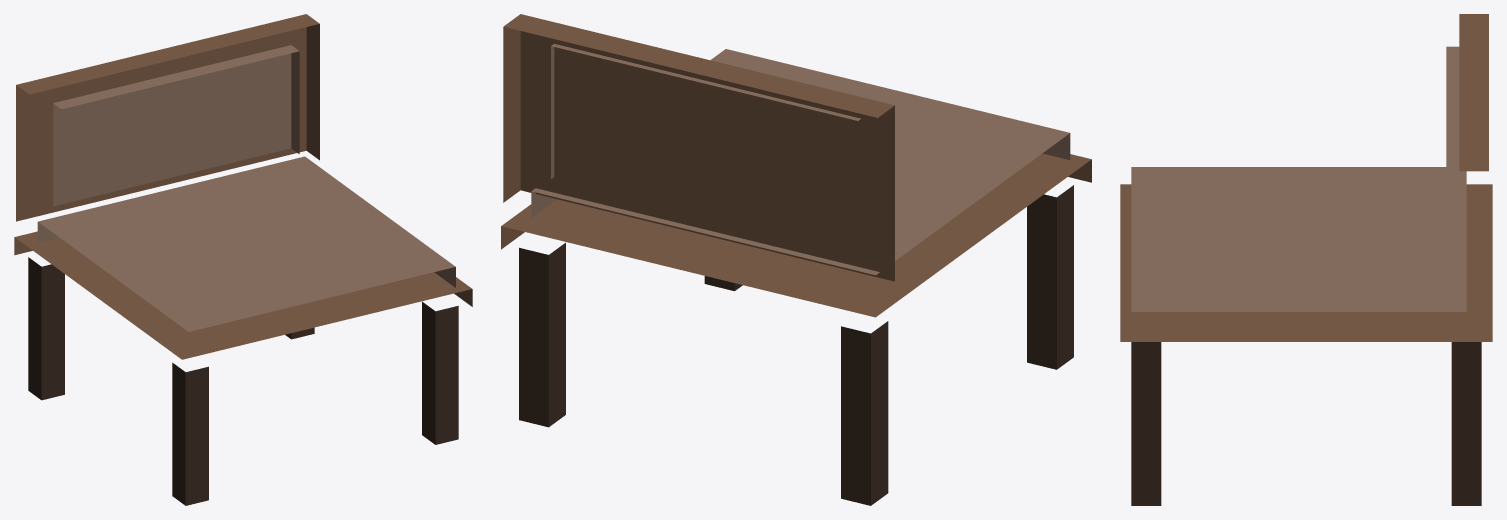
Rendered from Chair-brown.glb.
3 renders of one model, left to right at view 1: azimuth 30°, elevation 25°; view 2: azimuth 150°, elevation 25°; view 3: azimuth 270°, elevation 25°, orthographic. The views are drawn at different scales.
Visible parts, largest first — view 1: Chair; view 2: Chair; view 3: Chair.
Part boxes in pixels (x1,y1,x2,y2): Chair: [14, 14, 472, 505]; Chair: [501, 14, 1091, 505]; Chair: [1120, 14, 1492, 505].
Size of the model in its own units: 1 by 1 by 1.
